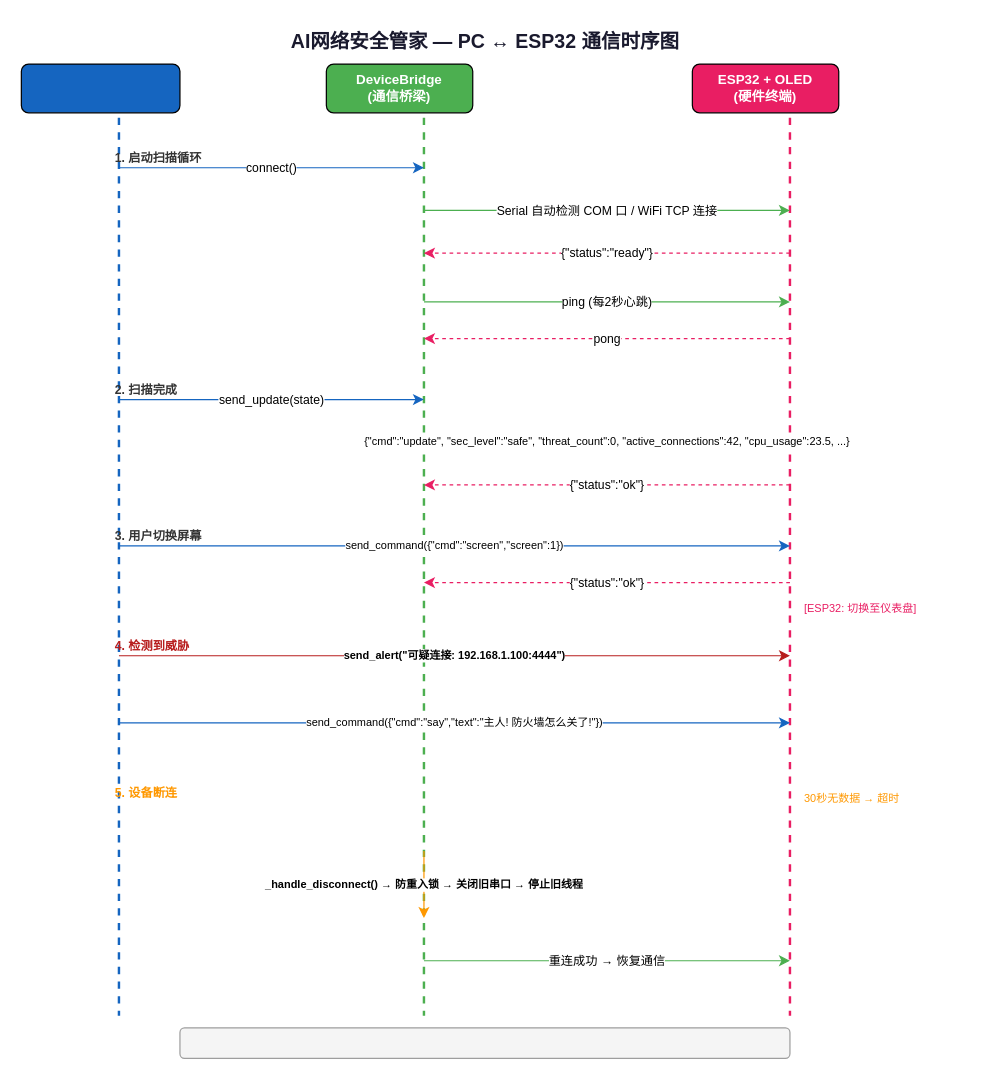
The diagram is 994 pixels wide and 1080 high, and some of its shapes have lost their labels. Here are the shapes that lost their labels. From the top down, the centre of each, then its label:
(100,88): GuardianController (PC Agent)
(484,1042): 通信协议: JSON over Serial (115200bps) | 心跳: 2秒 | 超时: 30秒 | 最大重连: 10次
